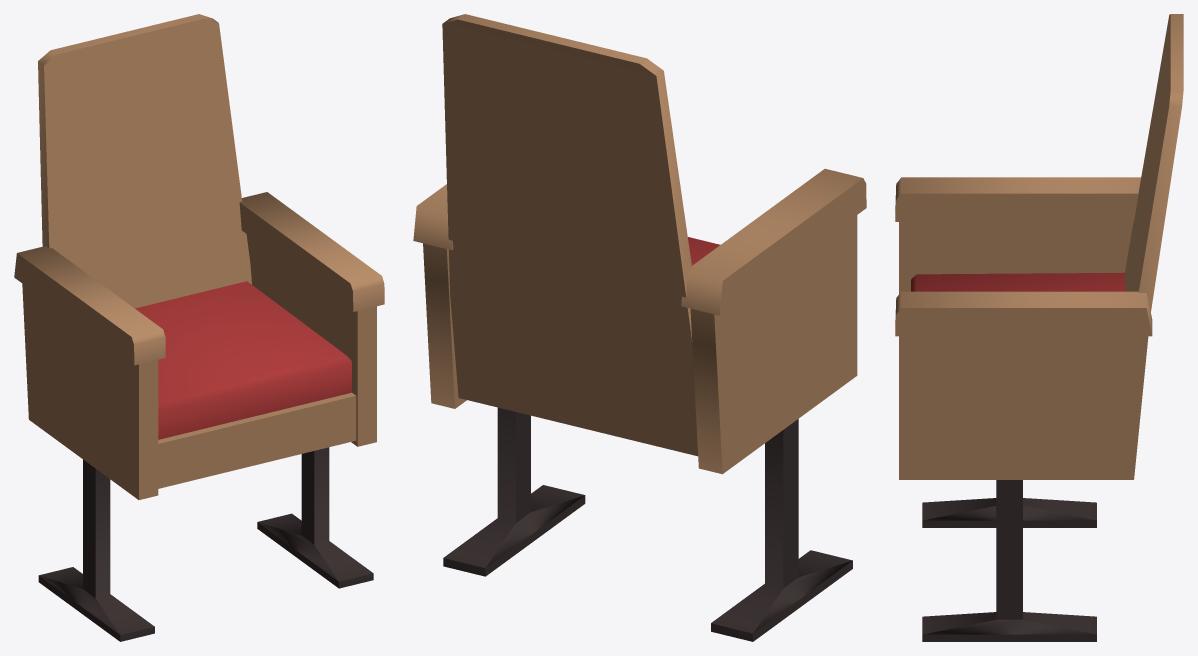
Rendered from chair4.FBX.
The picture shows the model from 3 angles, left to right: view 1: azimuth 30°, elevation 25°; view 2: azimuth 150°, elevation 25°; view 3: azimuth 270°, elevation 25°; orthographic projection. The views are drawn at different scales.
Parts seen in each view (by area): view 1: chair4; view 2: chair4; view 3: chair4.
Part boxes in pixels (bbox=[...]): chair4: bbox=[14, 14, 384, 641]; chair4: bbox=[413, 14, 866, 641]; chair4: bbox=[895, 14, 1183, 641].
Bounding box in the file's own units: 55.4 × 102 × 51.06.
1 material, 1 textured.
